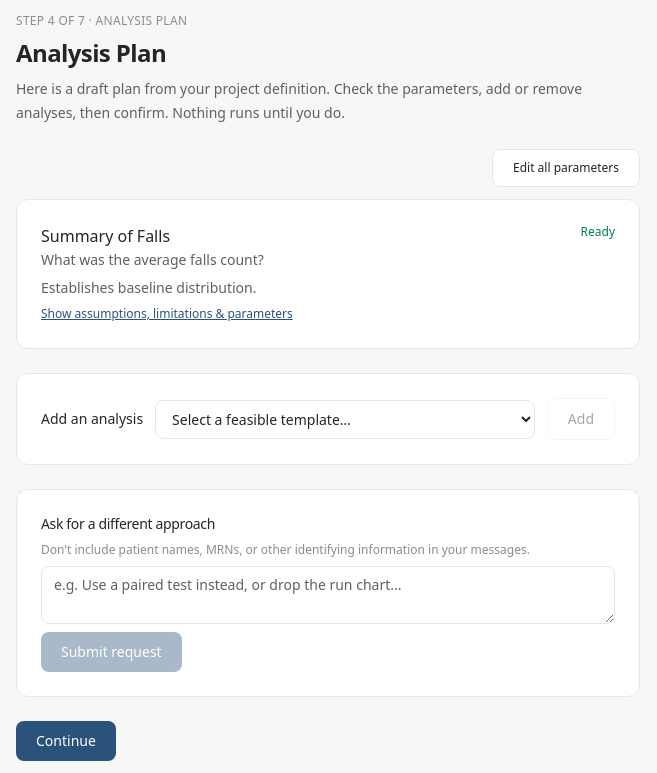
Test: AnalysisPlanStage rich plan review › submits an override request and shows what changed
Expected: the text "Summary of Falls" is shown, left=41, top=225, right=170, bottom=247
Type "Use a run chart instead" into the text box with placeholder "e.g. Use a paired test instead, or drop the run chart...".
click(328, 595); type("Use a run chart instead")  # box left=41, top=566, right=615, bottom=624
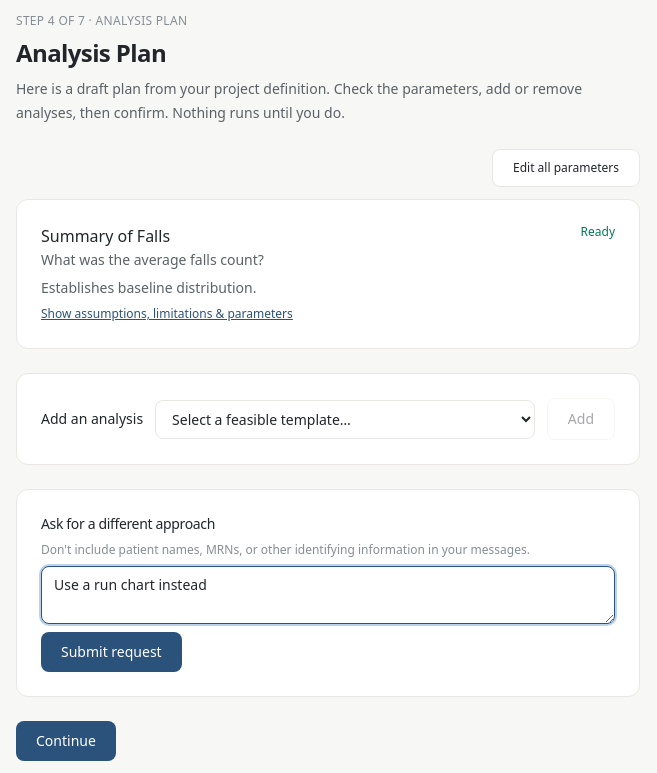
Click the button "Submit request".
click(111, 652)  # box left=41, top=632, right=182, bottom=672
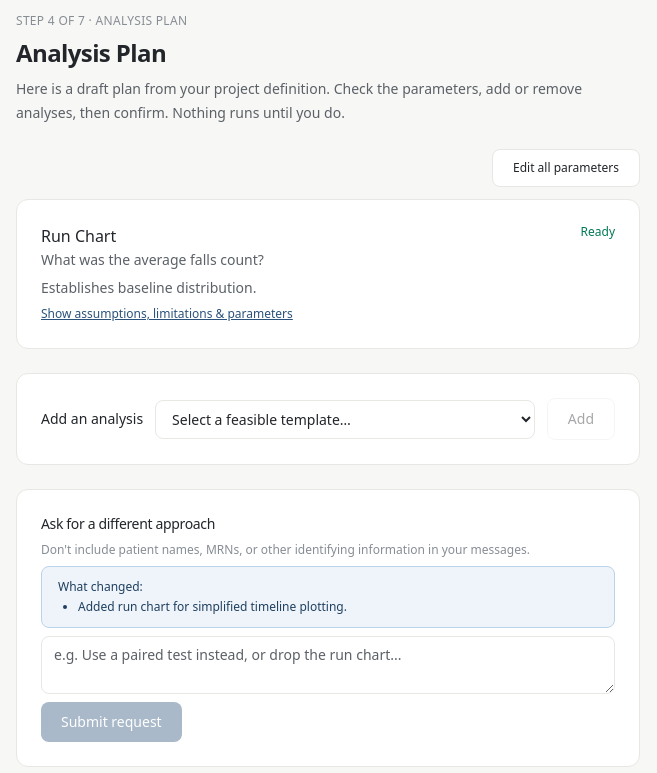
Now the list item "Added run chart for simplified timeline plotting." is shown, box left=78, top=598, right=347, bottom=615
